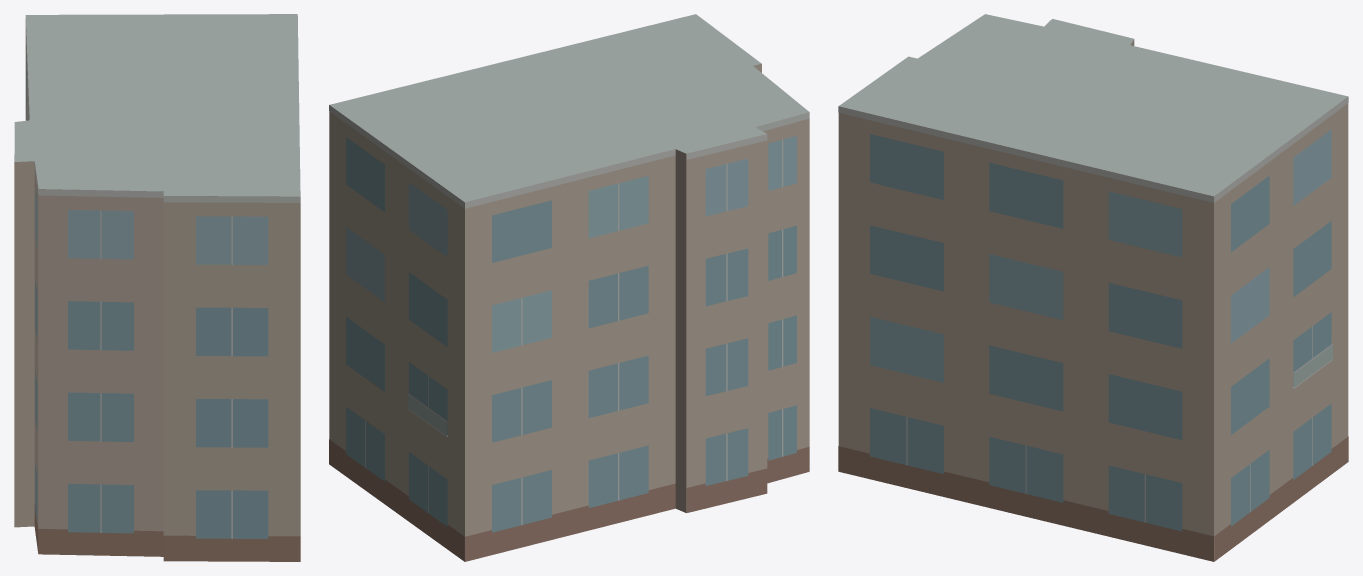
File: survey-upis-32992639.glb
The picture shows the model from 3 angles, left to right: view 1: azimuth 30°, elevation 25°; view 2: azimuth 150°, elevation 25°; view 3: azimuth 270°, elevation 25°; orthographic projection.
Visible parts, largest first — view 1: survey-upis-32992639.tmp; view 2: survey-upis-32992639.tmp; view 3: survey-upis-32992639.tmp.
Part boxes in pixels (left/top/right/bottom): survey-upis-32992639.tmp: left=14, top=14, right=300, bottom=561; survey-upis-32992639.tmp: left=329, top=14, right=809, bottom=561; survey-upis-32992639.tmp: left=838, top=14, right=1348, bottom=561.
Bounding box in the file's own units: 14.79 × 13.8 × 17.46.
